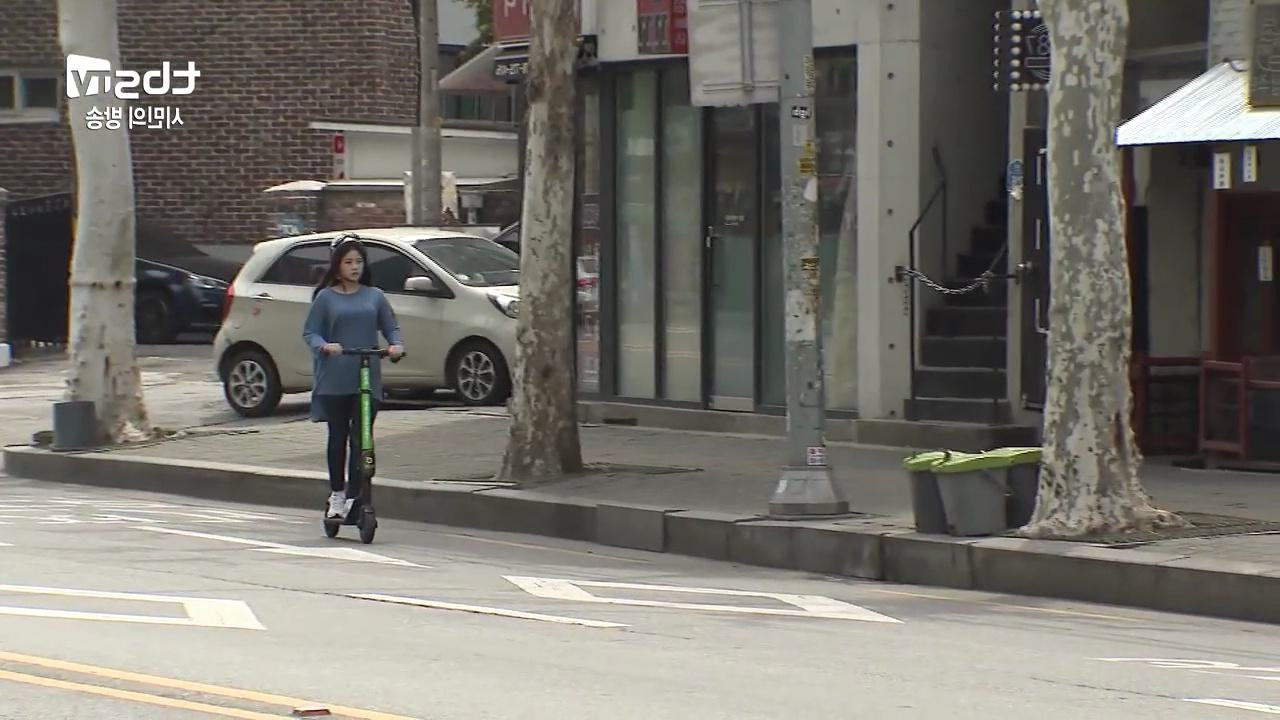helmet: (298, 230, 406, 546)
